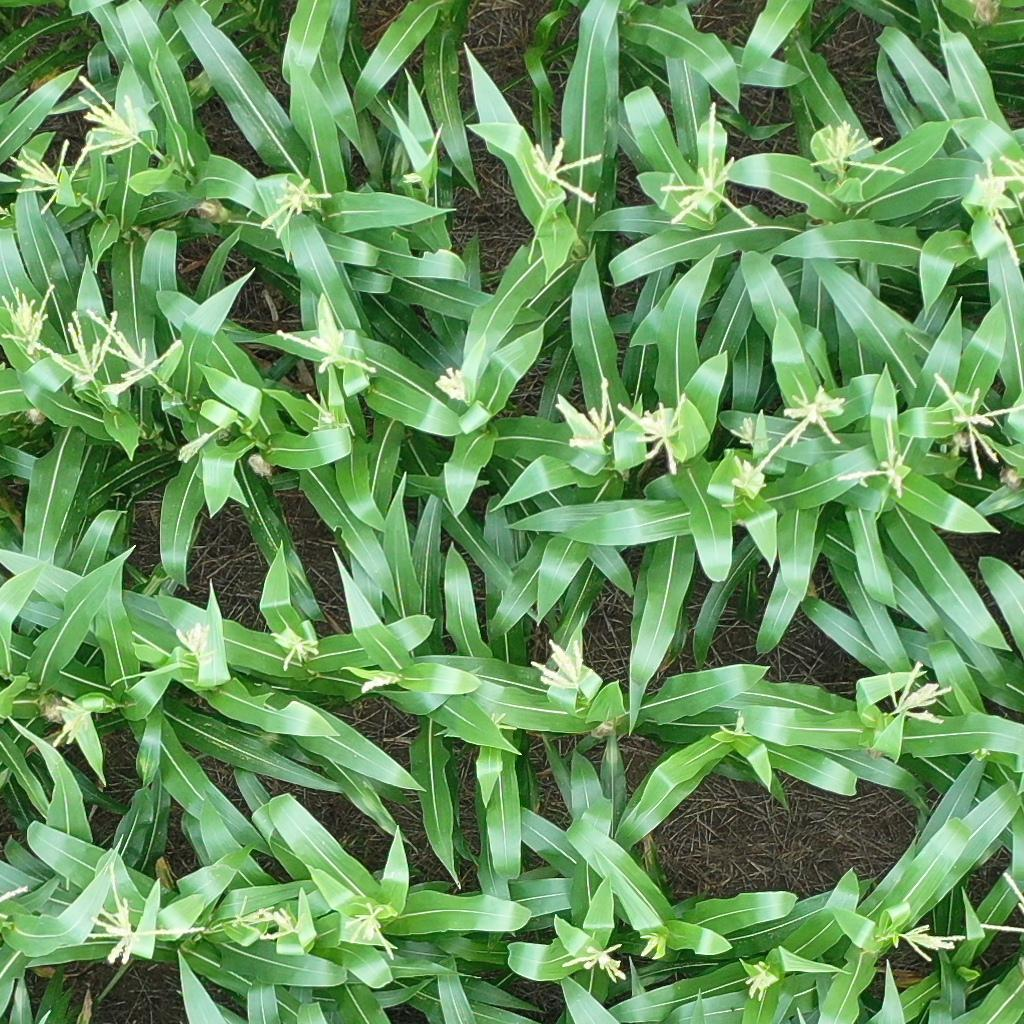Tassel: (652, 99, 759, 231), (84, 863, 203, 963), (934, 373, 1024, 479), (88, 312, 184, 398), (35, 310, 119, 393), (7, 136, 95, 215), (65, 73, 150, 153), (1, 284, 76, 373), (768, 383, 854, 458), (840, 415, 916, 498), (616, 391, 692, 473), (808, 117, 905, 177), (276, 319, 377, 376), (524, 137, 604, 208), (555, 376, 624, 454), (973, 161, 1023, 266), (881, 659, 953, 727), (257, 177, 330, 240), (532, 629, 596, 696), (344, 899, 399, 964), (560, 937, 631, 984), (50, 688, 94, 753), (899, 921, 970, 958), (269, 622, 323, 667), (173, 620, 223, 662), (724, 455, 772, 498), (231, 895, 273, 936), (992, 149, 1024, 202), (307, 388, 345, 430), (430, 366, 470, 405), (742, 962, 781, 1001), (262, 908, 305, 942), (177, 427, 214, 465), (486, 704, 525, 737), (360, 667, 399, 696), (727, 416, 761, 447), (639, 931, 665, 962), (722, 717, 752, 736), (401, 171, 425, 189)
